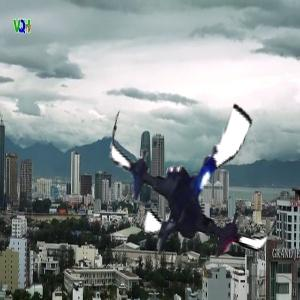drone: (97, 79, 295, 277)
